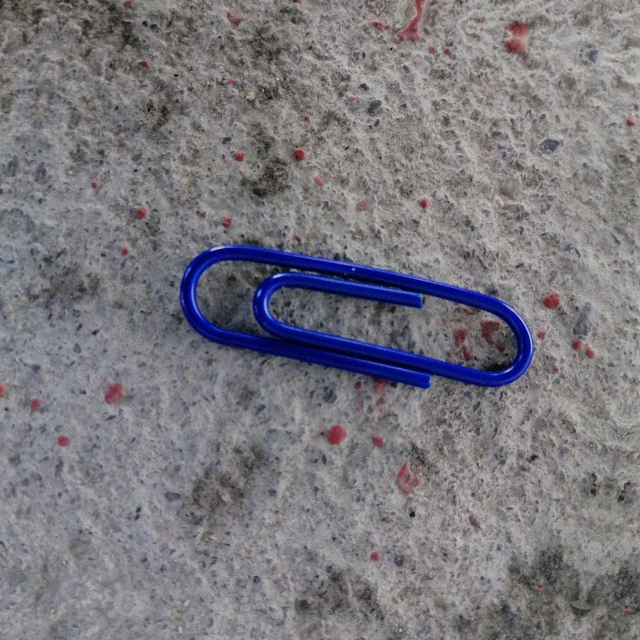pin: (177, 229, 537, 407)
